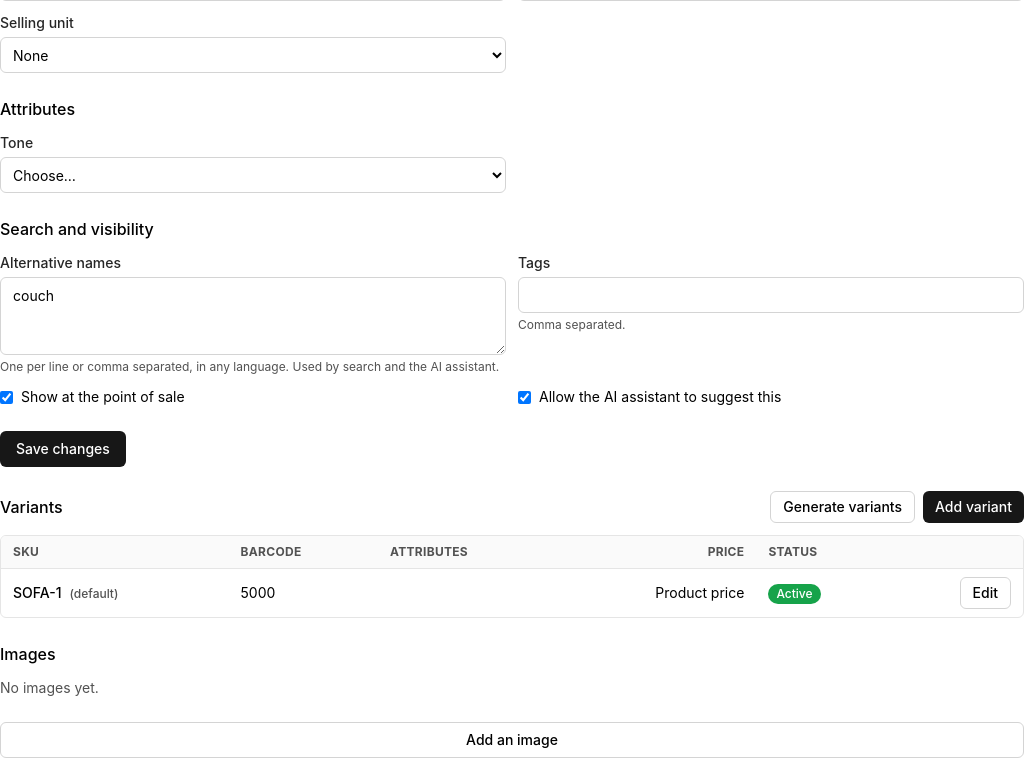
Test: variants › shows duplicate SKU or barcode errors on the field
The image size is (1024, 758).
(page scrolled)
Click the button "Add variant". click: [974, 507]
box: [923,491,1023,523]
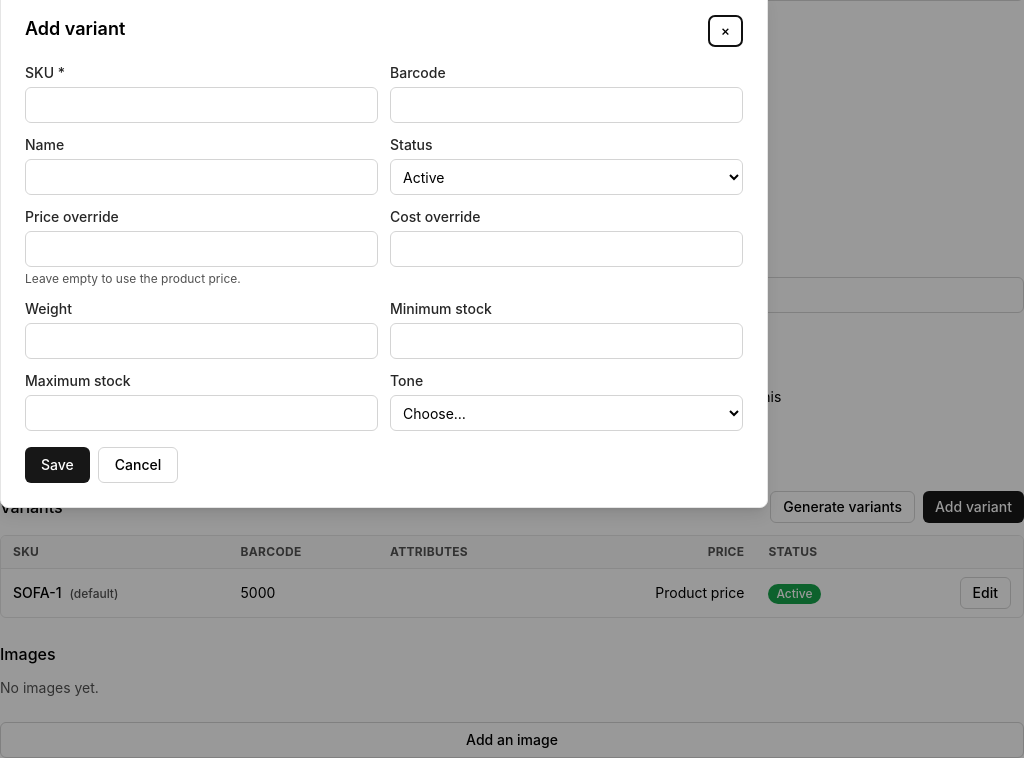
Type "DUP" into the field labelled "SKU *". click: [202, 105]
box: [25,87,378,123]
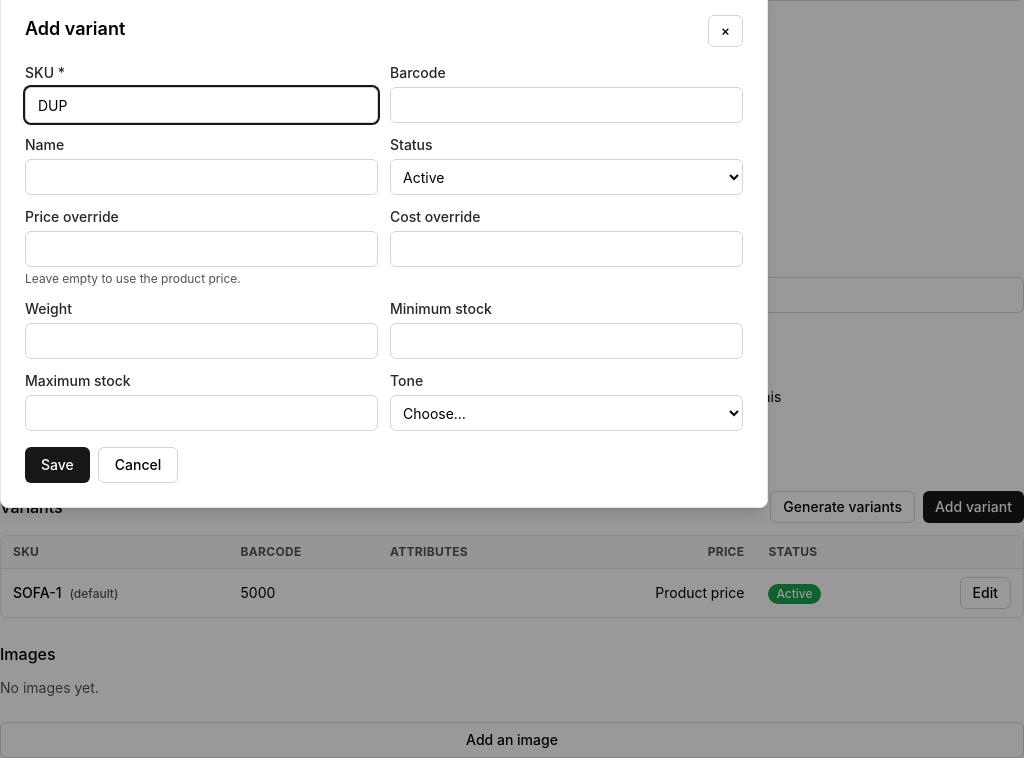
Click the button "Save". click: [57, 465]
box: [25,447,90,483]
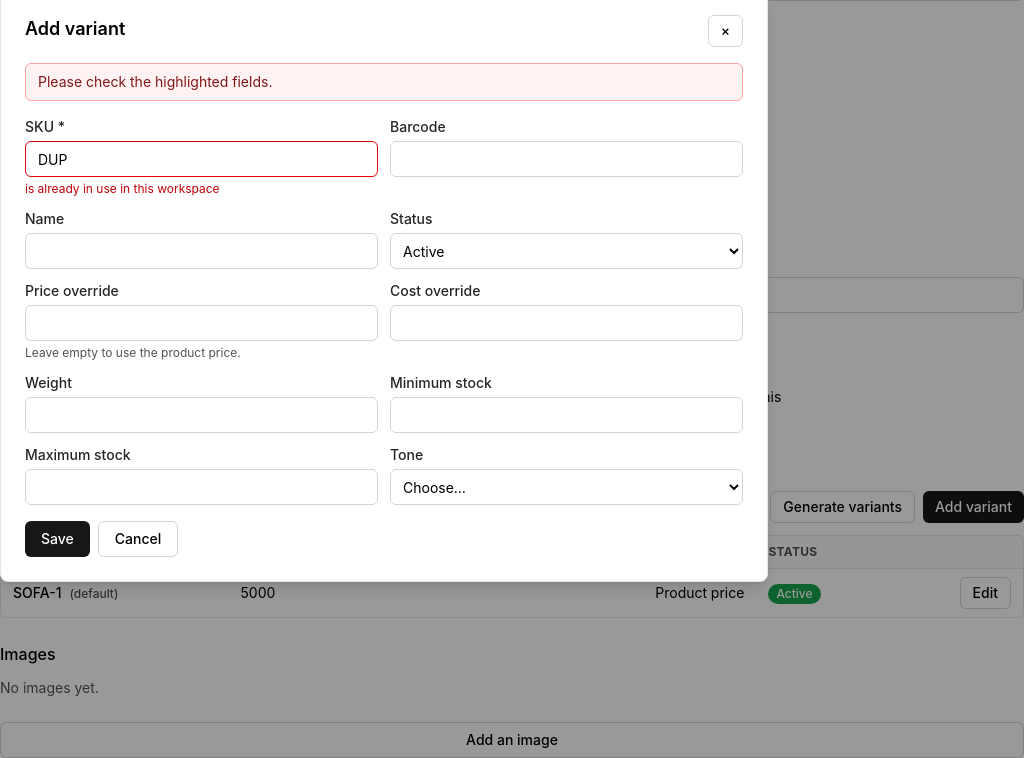
expect the text "is already in use in this workspace" is shown: met, box [25,181,220,196]
